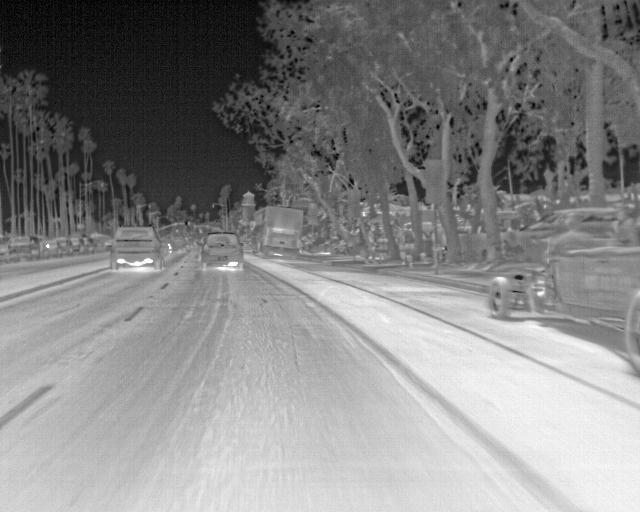bicycle: (109, 224, 165, 269), (198, 232, 244, 272), (9, 233, 40, 262), (53, 238, 73, 256), (79, 235, 95, 255), (68, 237, 83, 255)
empty: (548, 212, 596, 255), (428, 216, 449, 270), (398, 220, 419, 270)
